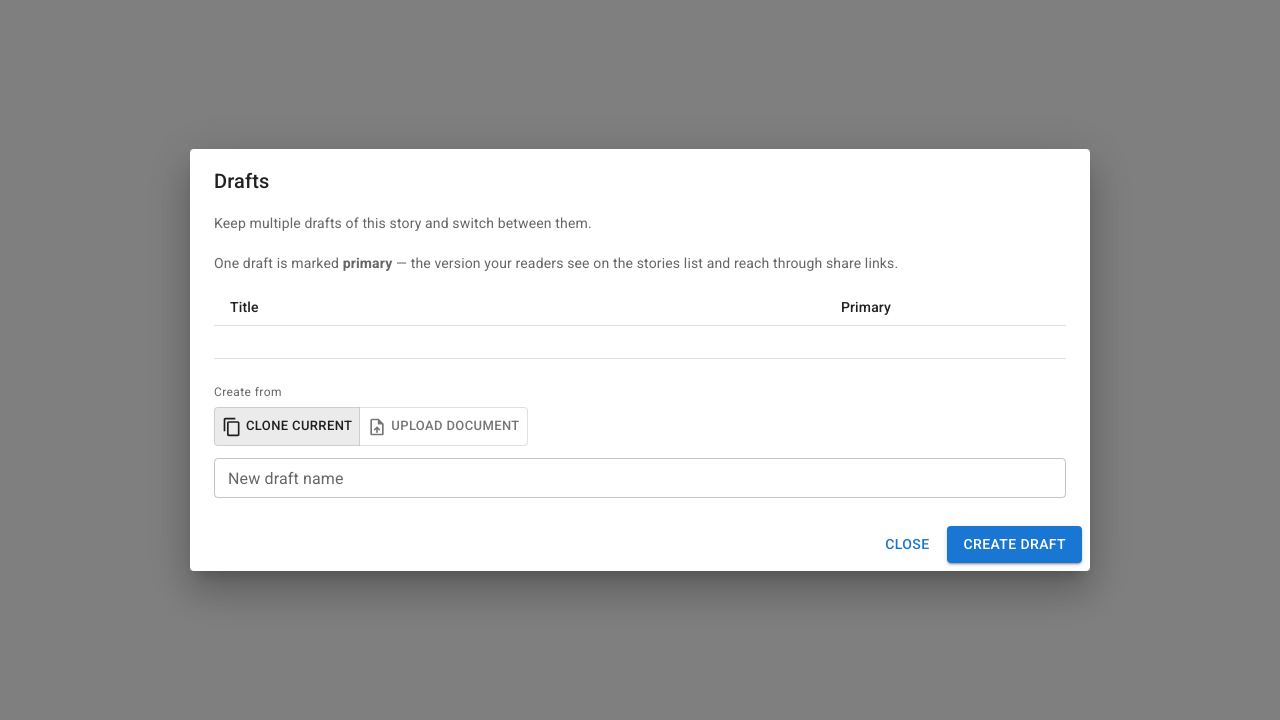
Test case: DraftsDialog › shows a loading indicator while the clone is in-flight
Step 1. Type "Alt ending" into the field labelled "New draft name" → coordinates (640, 478), box [214,458,1066,498]
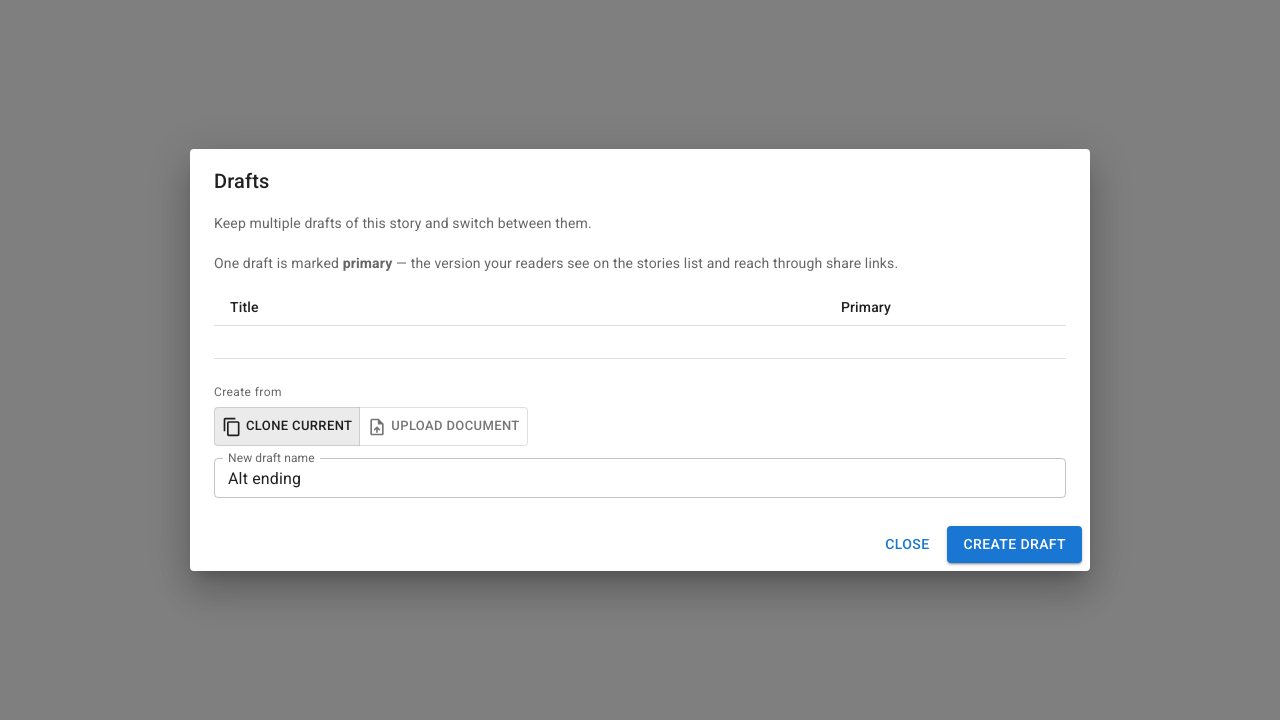
Step 2. Click the button "Create draft" → coordinates (1015, 544), box [947,526,1082,563]
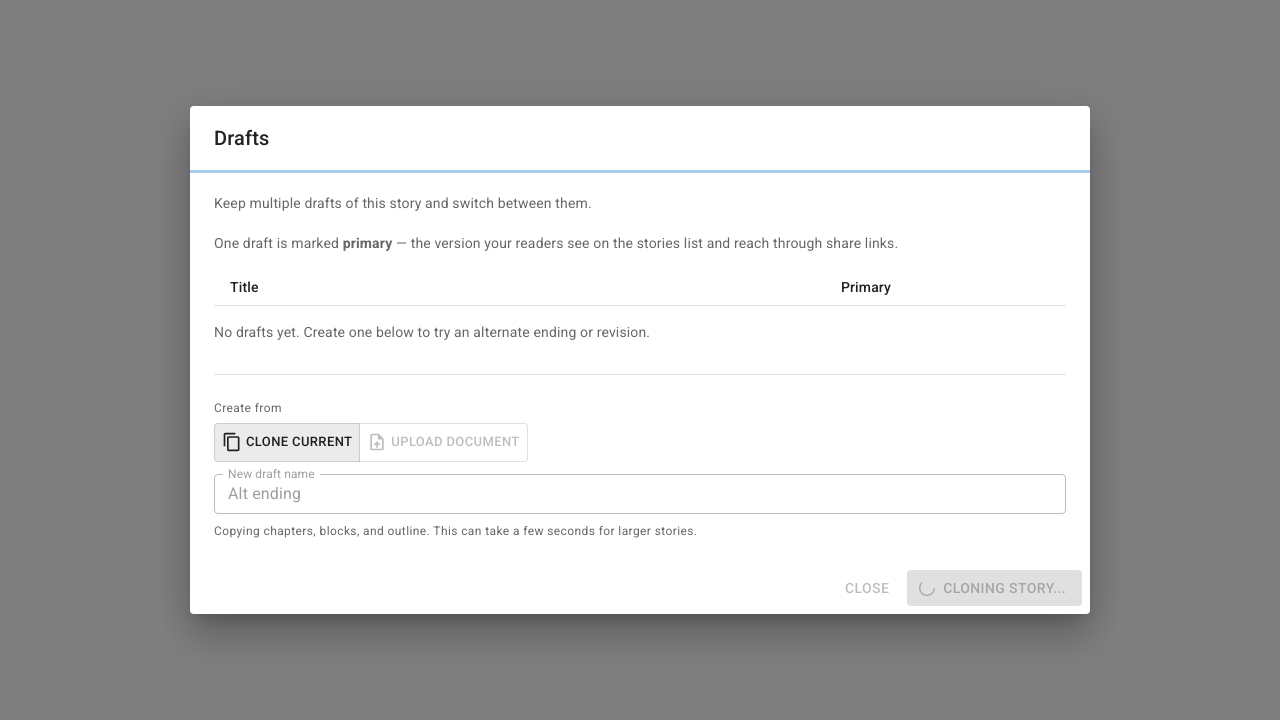
expect the button "Cloning story..." is shown: met, box [907,570,1082,606]
expect the text "Copying chapters, blocks, and outline" is shown: met, box [214,524,697,538]
expect the button "Close" is disabled: met, box [835,570,899,606]
